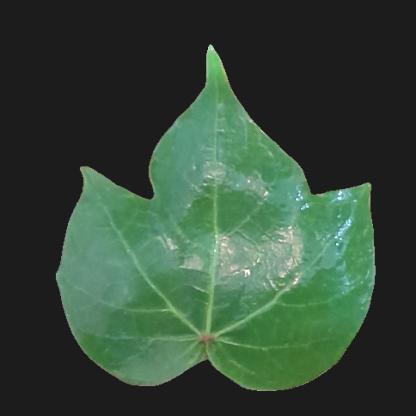healthy: (156, 147, 300, 353), (75, 217, 157, 351), (298, 205, 359, 330), (183, 106, 256, 148)
